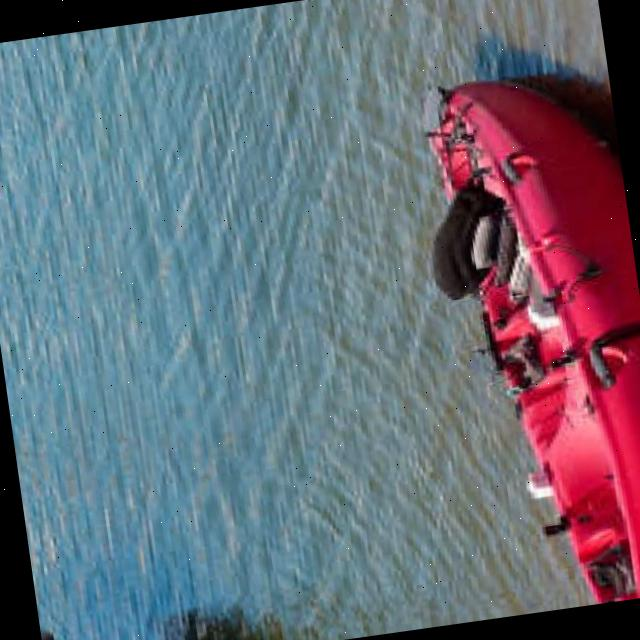kayak: (428, 79, 640, 604)
